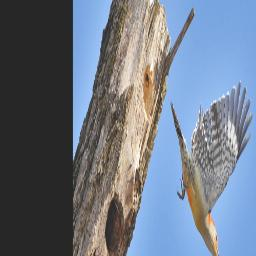Woodpecker: (170, 77, 254, 256)
